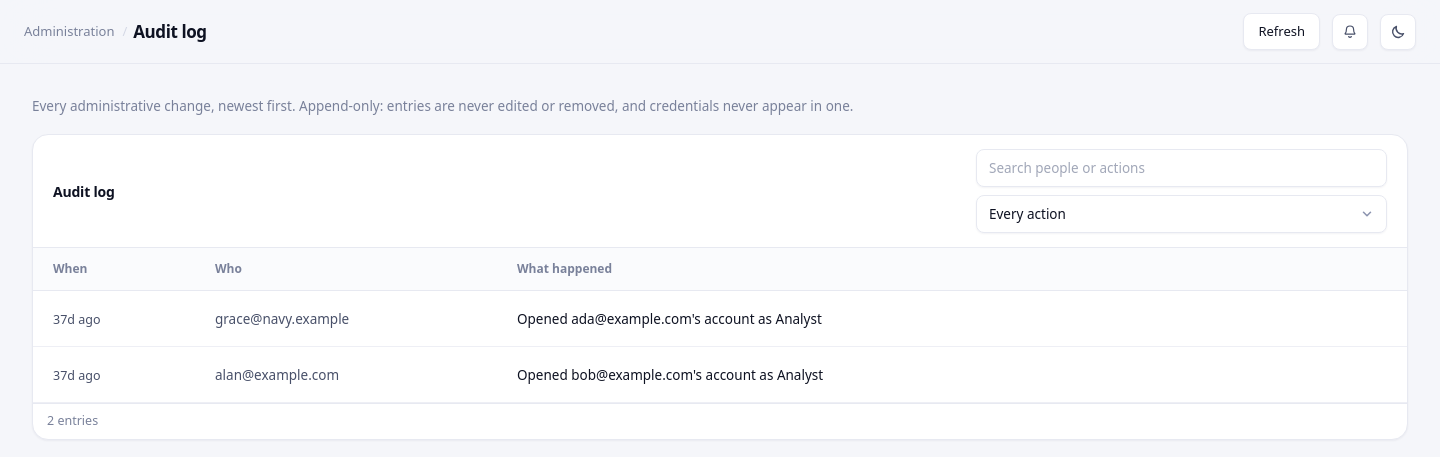
reading an entry › searches actor and subject together
expect the text "Opened ada@example.com's account as Analyst" is shown: met, box top-left (517, 310), bottom-right (822, 328)
Step 1. Type "alan" into the search field named "Search the audit log" → point(1182, 168), box top-left (976, 149), bottom-right (1387, 187)
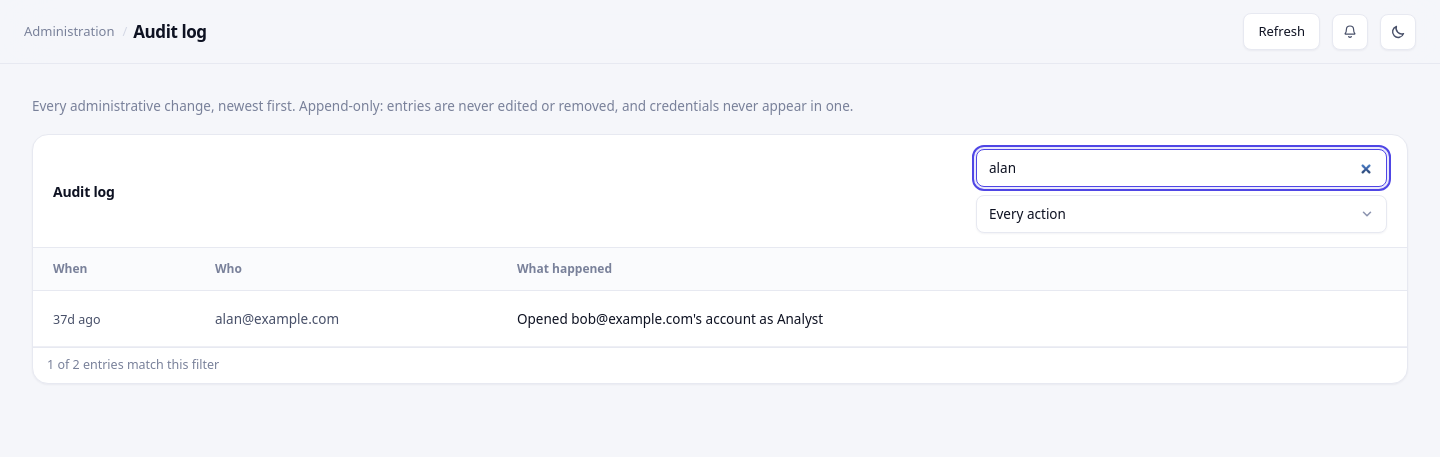
expect the text "Opened bob@example.com's account as Analyst" is shown: met, box top-left (517, 310), bottom-right (823, 328)
expect the text "Opened ada@" is gone: met
